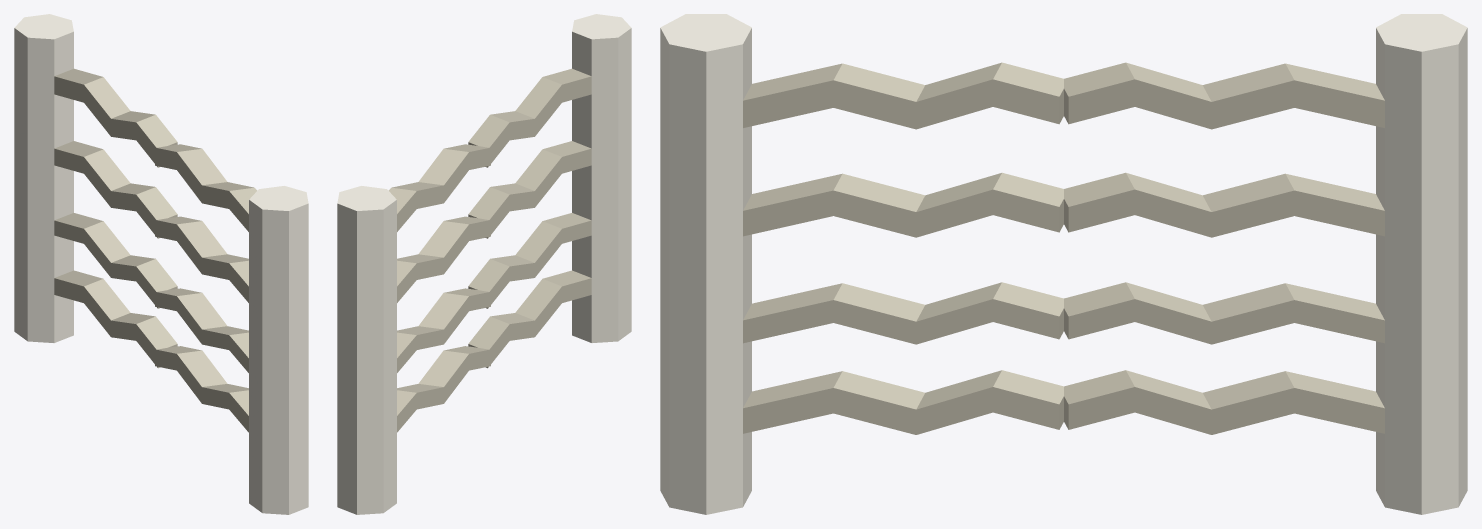
Rendered from FENCE MODULAR.fbx.
The picture shows the model from 3 angles, left to right: view 1: azimuth 30°, elevation 25°; view 2: azimuth 150°, elevation 25°; view 3: azimuth 270°, elevation 25°; orthographic projection. The views are drawn at different scales.
Visible parts, largest first — view 1: pCylinder1; view 2: pCylinder1; view 3: pCylinder1.
Part boxes in pixels (x1,y1,x2,y2): pCylinder1: (14, 14, 308, 514); pCylinder1: (337, 14, 631, 514); pCylinder1: (660, 14, 1467, 514).
Size of the model in its own units: 0.2607 by 1.49 by 2.35.
